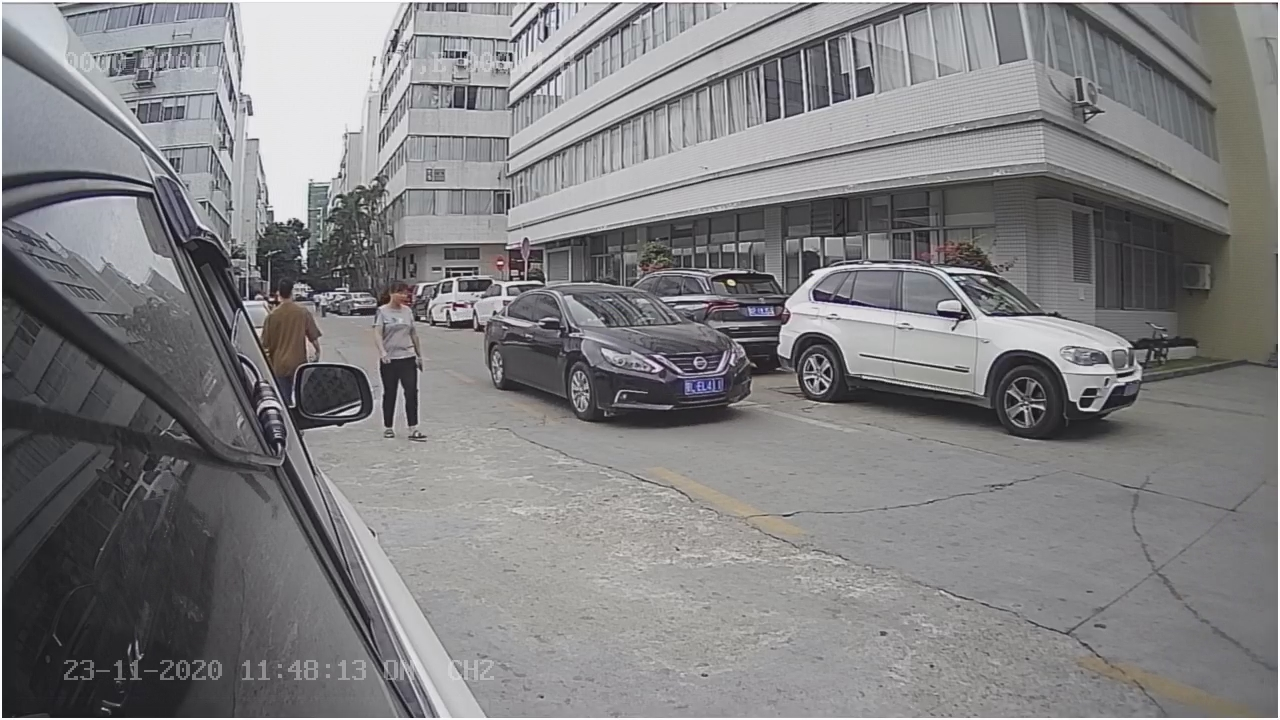person: (373, 276, 433, 439)
